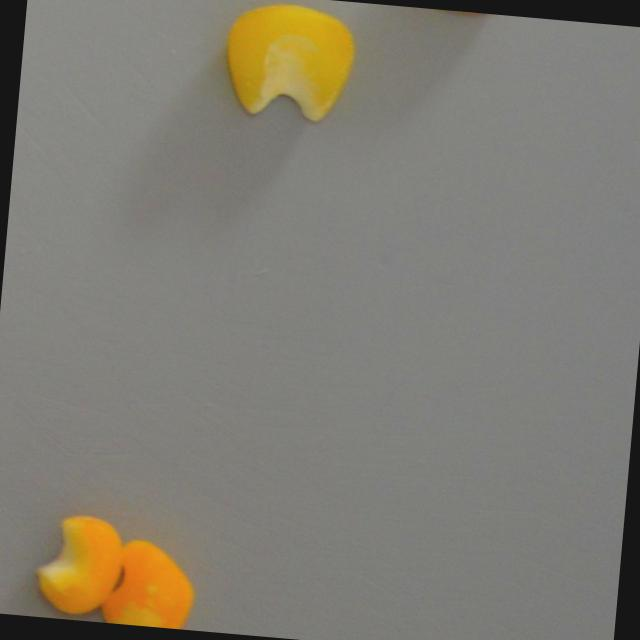no_canjicado: (220, 0, 355, 128), (28, 510, 124, 616), (103, 537, 198, 629)
